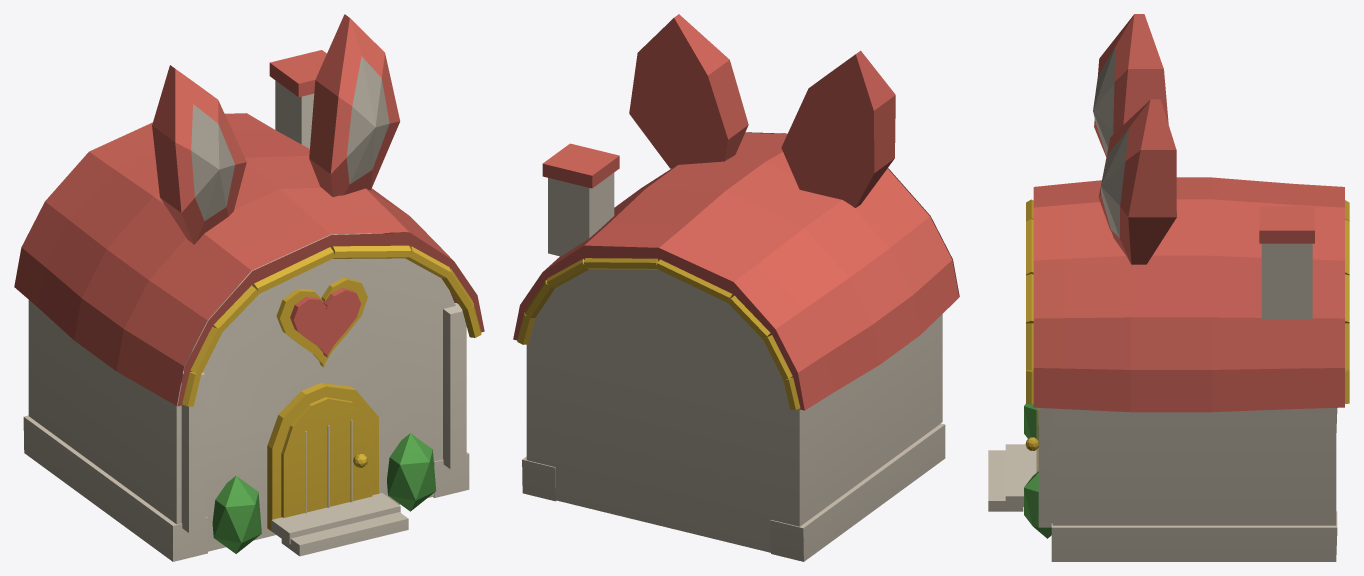
File: bunny-house.glb
3 views of the same model, side by side, from view 1: azimuth 30°, elevation 25°; view 2: azimuth 150°, elevation 25°; view 3: azimuth 270°, elevation 25° (orthographic). The views are drawn at different scales.
Visible parts, largest first — view 1: root_mesh, ears_mesh; view 2: root_mesh, ears_mesh; view 3: root_mesh, ears_mesh.
Boxes of the visible parts, bbox=[...] form: root_mesh: bbox=[14, 50, 484, 561]; ears_mesh: bbox=[152, 14, 400, 244]; root_mesh: bbox=[513, 132, 959, 561]; ears_mesh: bbox=[629, 14, 895, 207]; root_mesh: bbox=[988, 177, 1349, 561]; ears_mesh: bbox=[1093, 14, 1176, 264].
Size of the model in its own units: 3 by 4 by 3.
